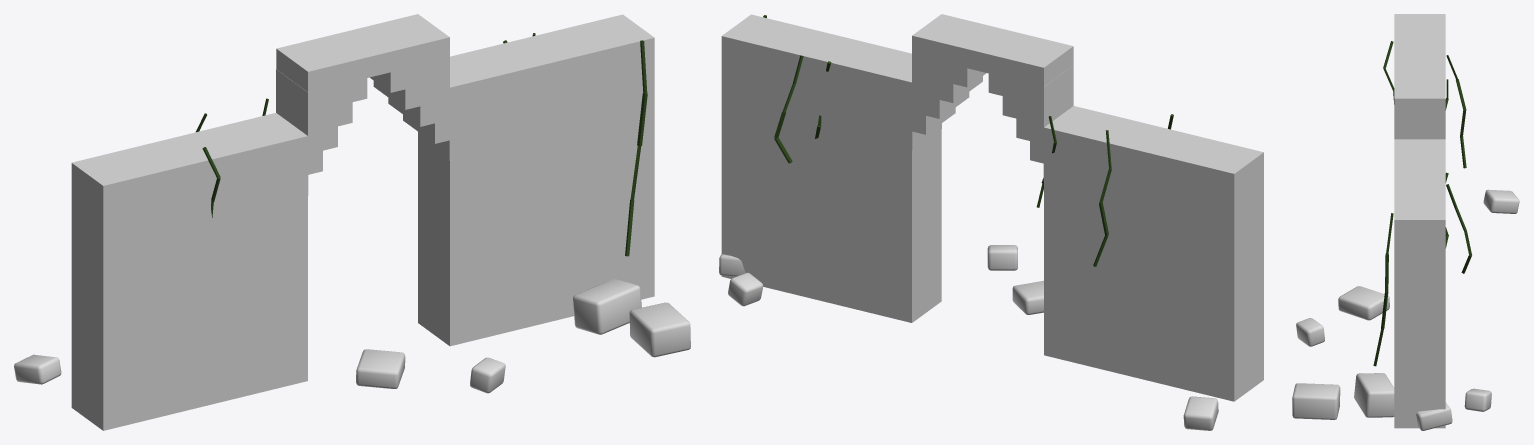
The model's file is ruin_wall.glb.
3 renders of one model, left to right at view 1: azimuth 30°, elevation 25°; view 2: azimuth 150°, elevation 25°; view 3: azimuth 270°, elevation 25°, orthographic. The views are drawn at different scales.
Visible parts, largest first — view 1: ruin_wall_T_mossy_stone, ruin_wall_M_Vine; view 2: ruin_wall_T_mossy_stone, ruin_wall_M_Vine; view 3: ruin_wall_T_mossy_stone, ruin_wall_M_Vine.
Part boxes in pixels (<box>): ruin_wall_T_mossy_stone: <box>14,14,690,430</box>; ruin_wall_M_Vine: <box>196,33,647,256</box>; ruin_wall_T_mossy_stone: <box>719,14,1263,430</box>; ruin_wall_M_Vine: <box>763,15,1173,266</box>; ruin_wall_T_mossy_stone: <box>1292,14,1519,430</box>; ruin_wall_M_Vine: <box>1373,41,1471,366</box>.
Size of the model in its own units: 14.67 by 7.62 by 6.2.
